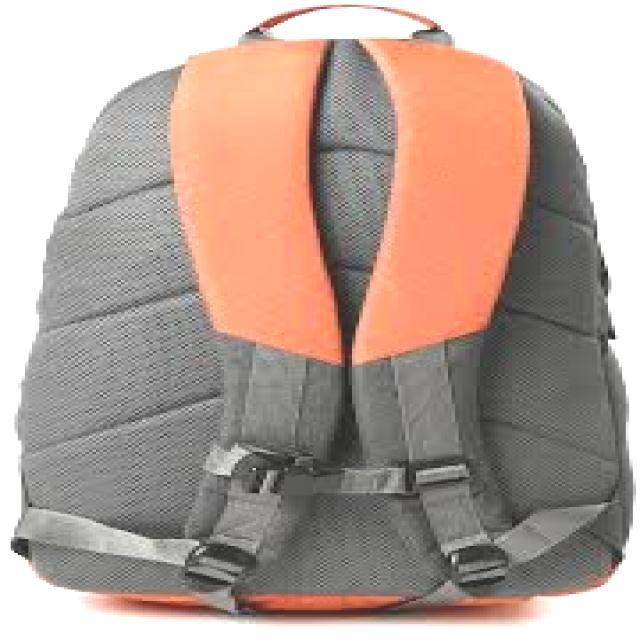backpack: (8, 4, 634, 616)
